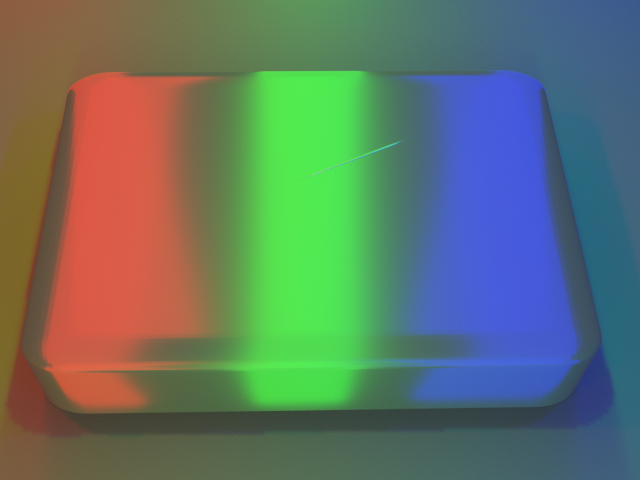scratch: (154, 53, 553, 266)
